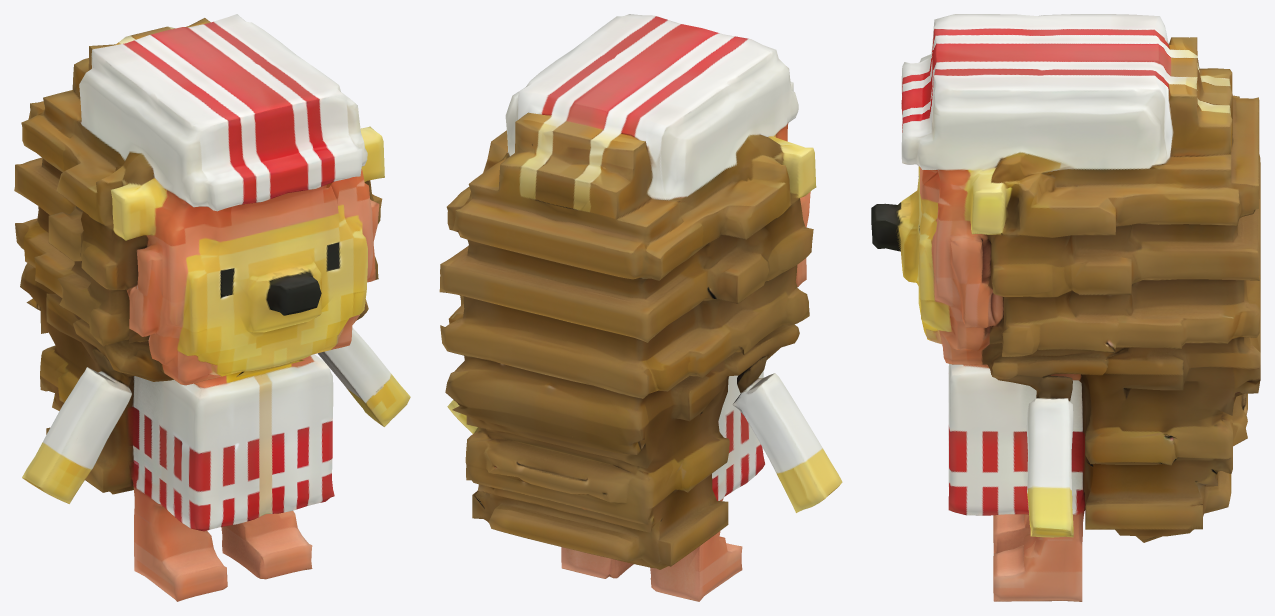
The model's file is harichi_shaded.glb.
3 renders of one model, left to right at view 1: azimuth 30°, elevation 25°; view 2: azimuth 150°, elevation 25°; view 3: azimuth 270°, elevation 25°, orthographic. The views are drawn at different scales.
Visible parts, largest first — view 1: model; view 2: model; view 3: model.
Boxes of the visible parts, x1,y1,x2,y2 form: model: (14,14,410,601); model: (439,14,842,601); model: (871,14,1260,601).
Bounding box in the file's own units: 1.48 × 1.89 × 1.29.
Materials: 1 (1 with a texture image).
